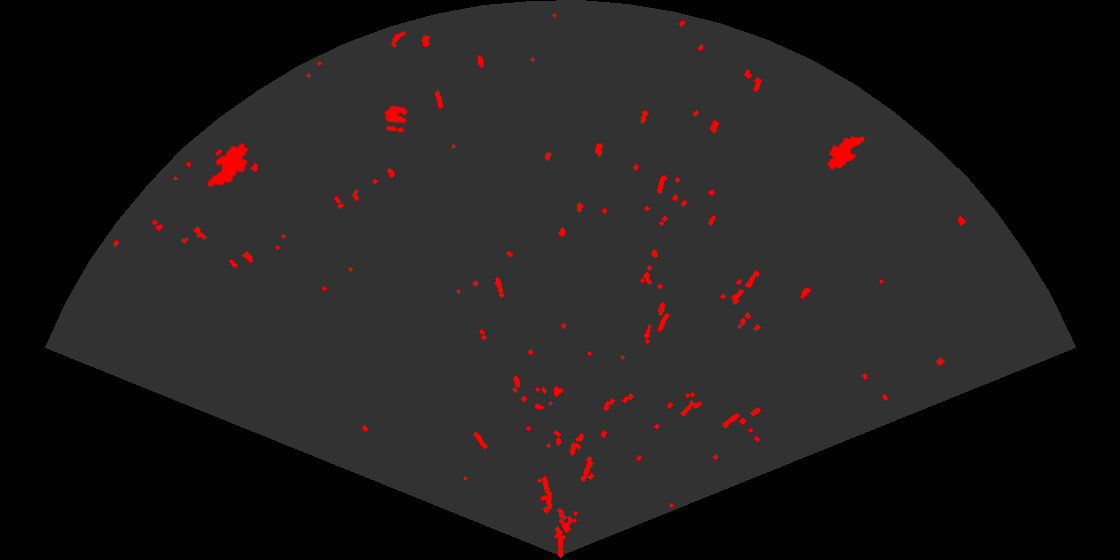AUV: (206, 142, 250, 189), (826, 135, 866, 171)
ball: (383, 104, 409, 134)
